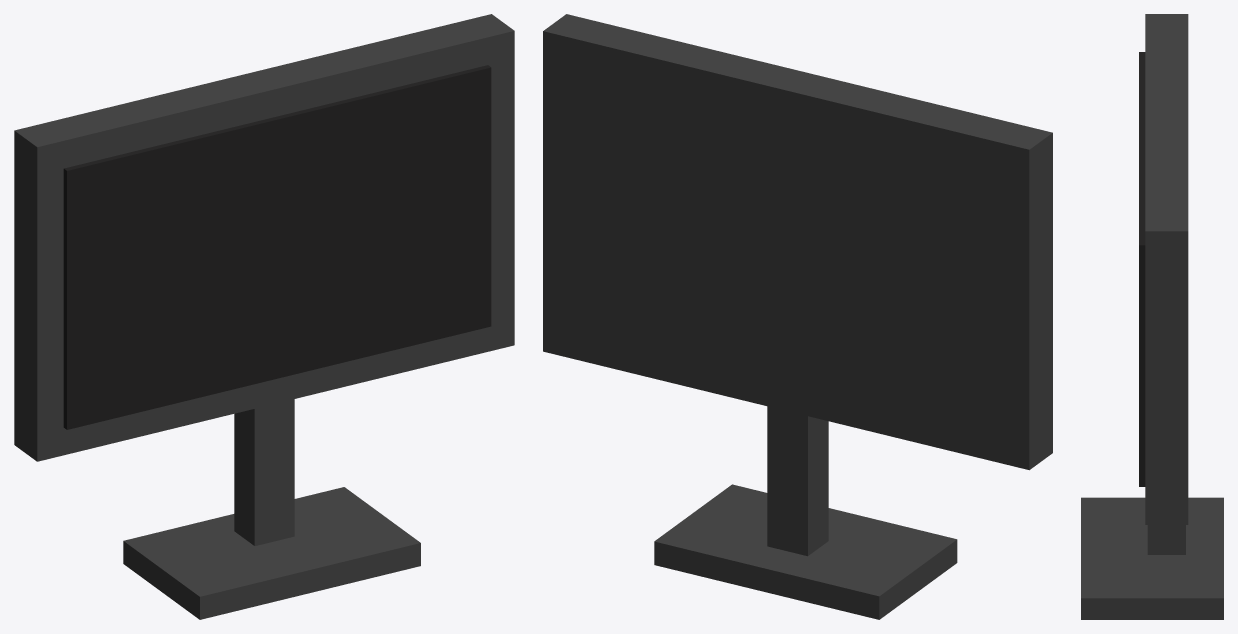
3 renders of one model, left to right at view 1: azimuth 30°, elevation 25°; view 2: azimuth 150°, elevation 25°; view 3: azimuth 270°, elevation 25°, orthographic. The views are drawn at different scales.
Visible parts, largest first — view 1: Frame; view 2: Frame; view 3: Frame.
Boxes of the visible parts, left/top/right/bottom form: Frame: left=14, top=14, right=514, bottom=619; Frame: left=543, top=14, right=1052, bottom=619; Frame: left=1081, top=14, right=1223, bottom=619.
Bounding box in the file's own units: 0.54 × 0.5175 × 0.15.
1 material, 1 textured.
